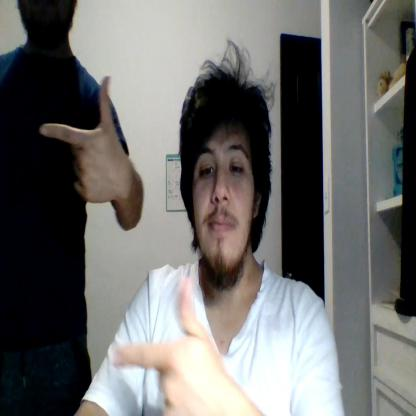G: (39, 75, 118, 204)
